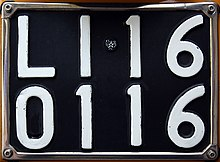number_plate: (1, 2, 219, 162)
